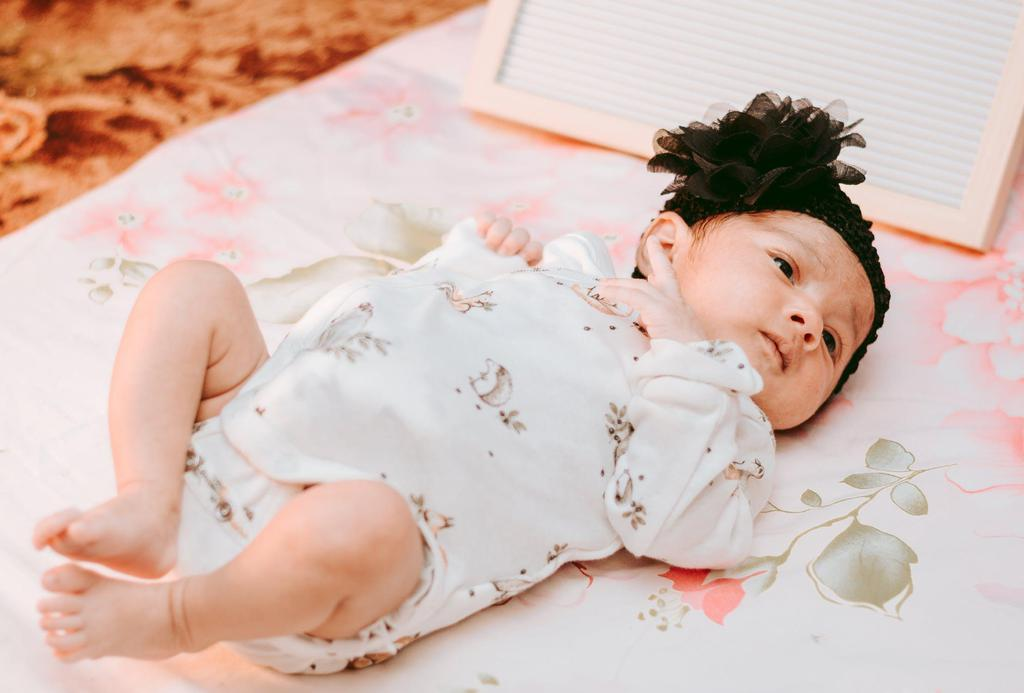child: (24, 84, 920, 670)
